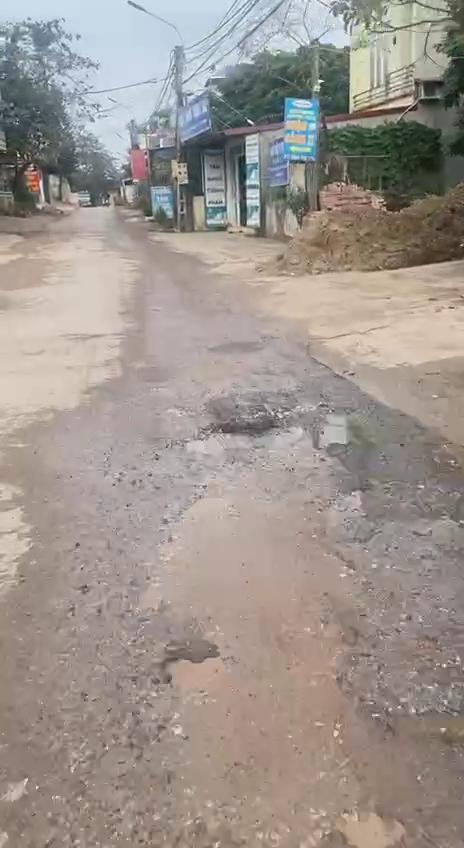pothole: (120, 394, 464, 848)
